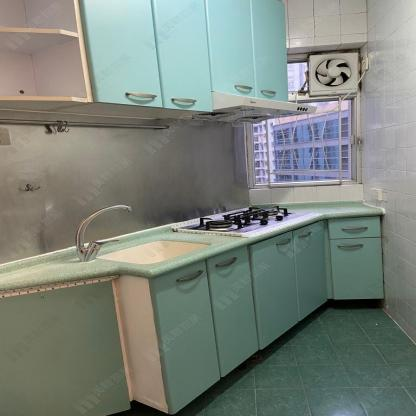Cupboard: (156, 217, 387, 414), (83, 0, 291, 111)
Exhaust Hood: (184, 92, 314, 123)
Faucet: (65, 197, 134, 258)
Sink: (100, 237, 211, 262)
Stove: (177, 205, 313, 239)
